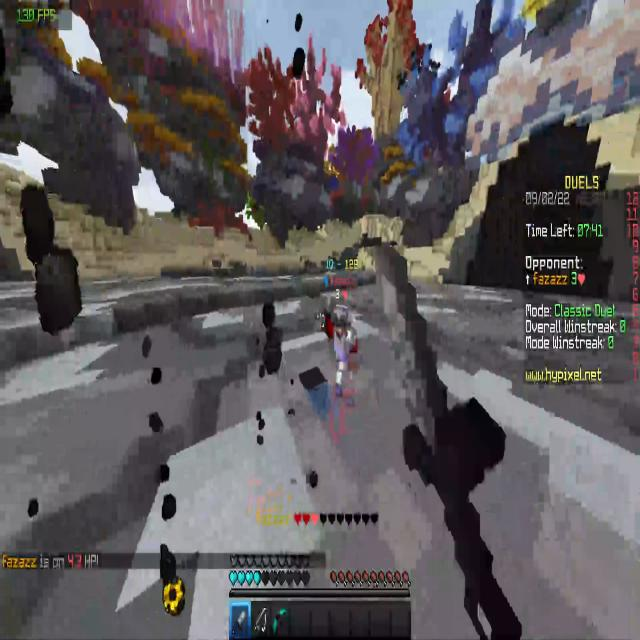Player: (318, 288, 364, 398)
